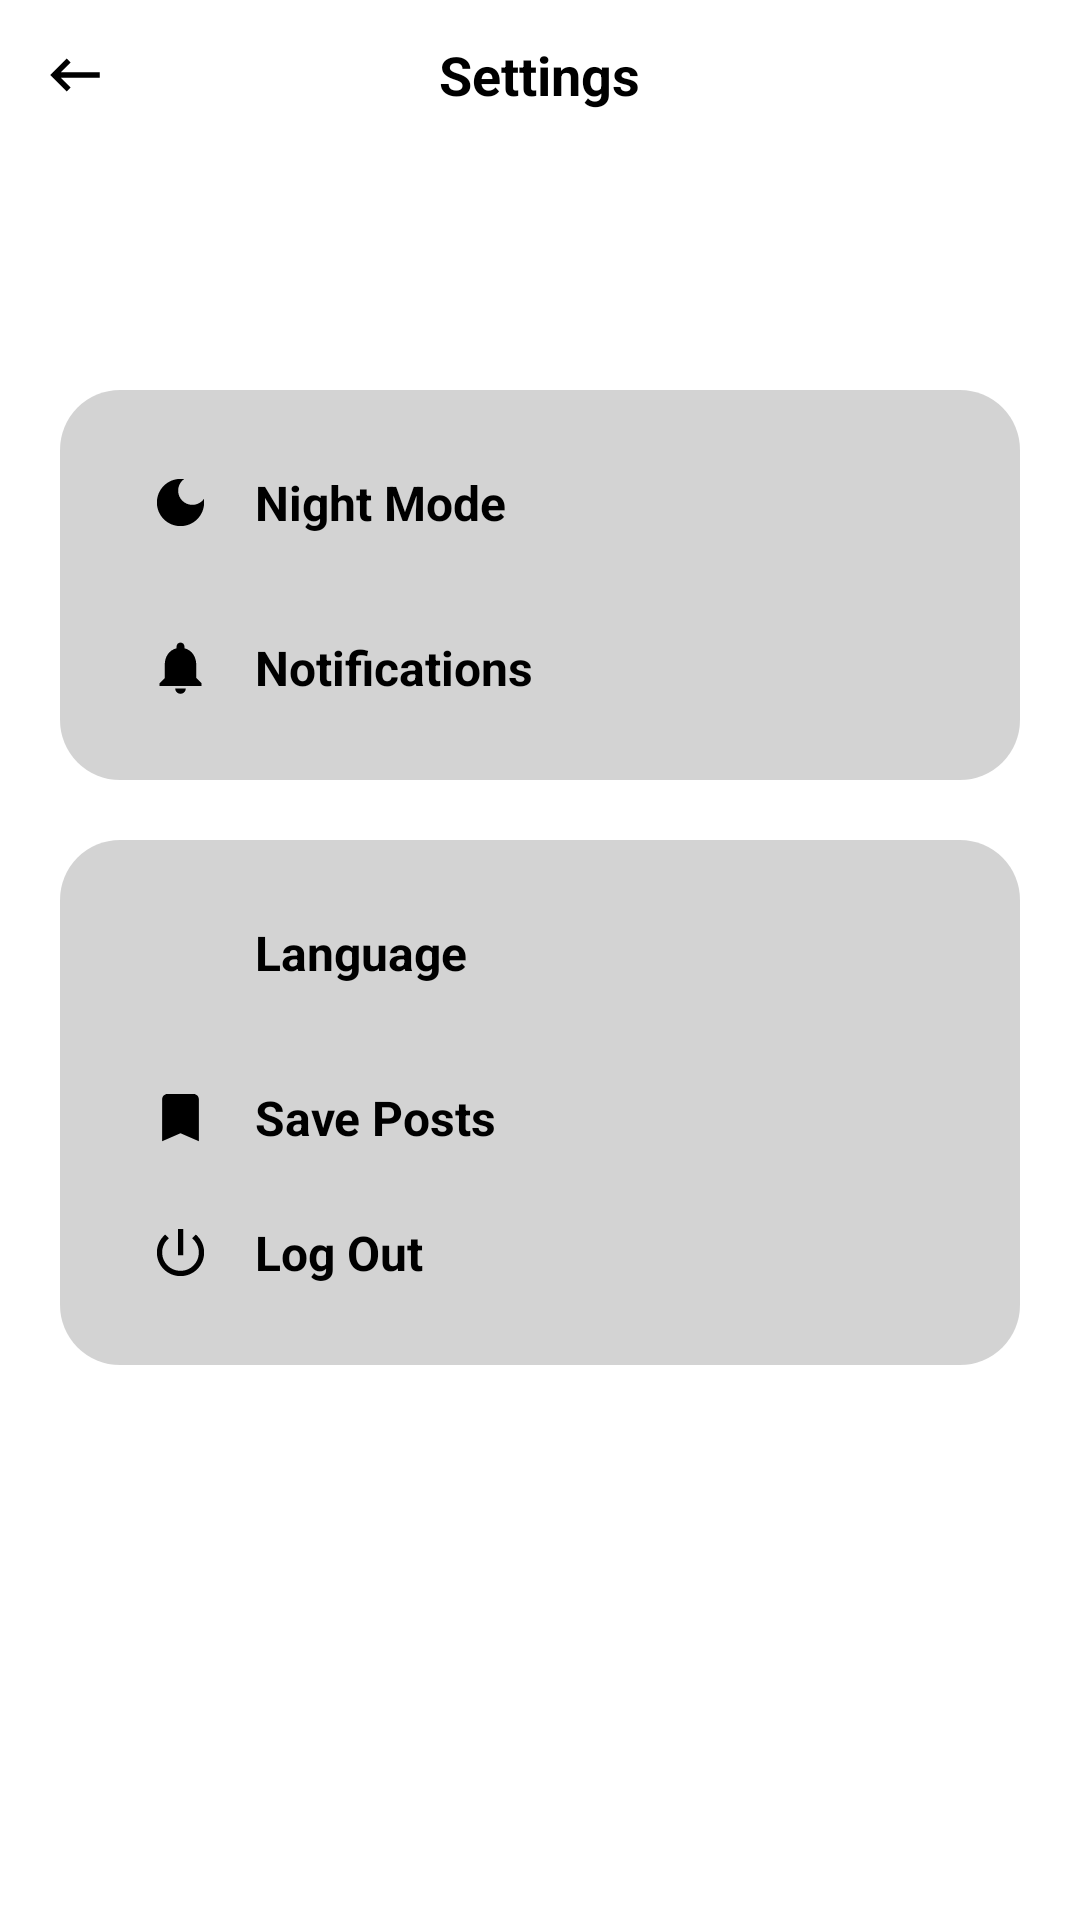

Locate icon controls on the screen. Image size 1080*1920, boxes as (x1, y1, x2, y2).
back: (50, 58, 100, 92)
bookmark: (162, 1094, 199, 1141)
power: (157, 1229, 204, 1276)
